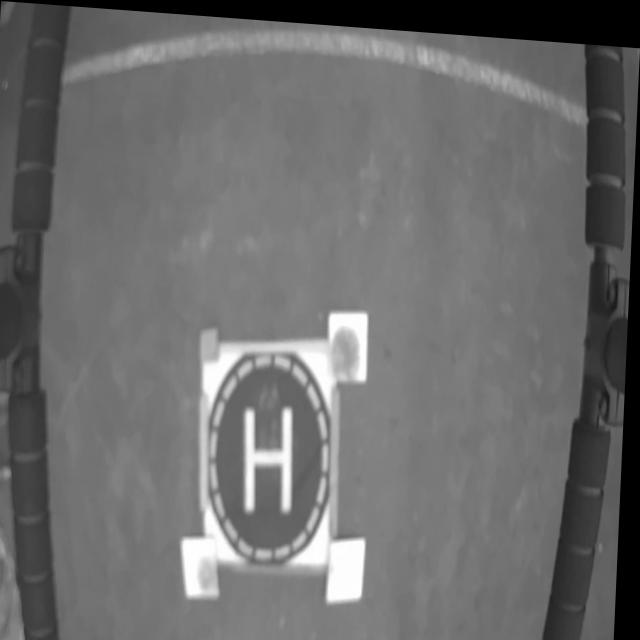Helipad: (245, 397, 297, 511)
